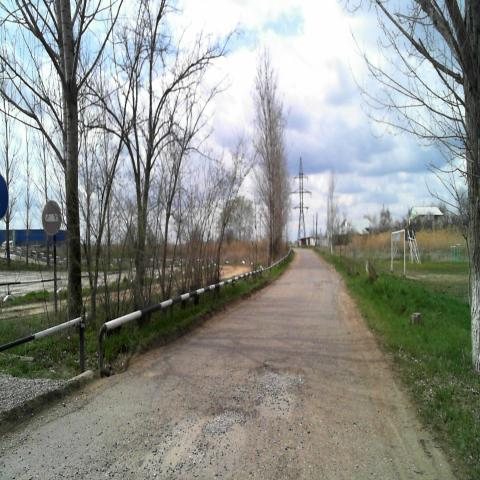3_1: (41, 199, 63, 237)
